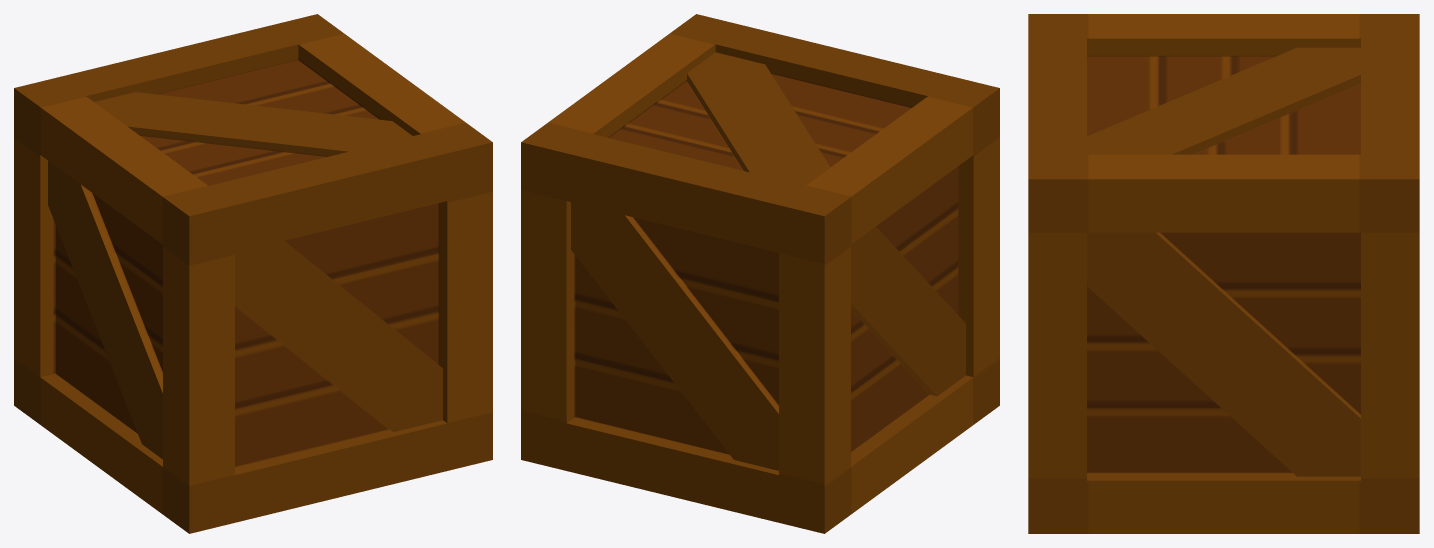
The model's file is WoodenBox_01.fbx.
The picture shows the model from 3 angles, left to right: view 1: azimuth 30°, elevation 25°; view 2: azimuth 150°, elevation 25°; view 3: azimuth 270°, elevation 25°; orthographic projection. The views are drawn at different scales.
Visible parts, largest first — view 1: WoodenBox_01; view 2: WoodenBox_01; view 3: WoodenBox_01.
Part boxes in pixels (box(x1,y1,x2,y2)): WoodenBox_01: box(14, 14, 492, 533); WoodenBox_01: box(521, 14, 999, 533); WoodenBox_01: box(1028, 14, 1419, 533).
Bounding box in the file's own units: 100 × 100 × 100.
Materials: 1 (1 with a texture image).
